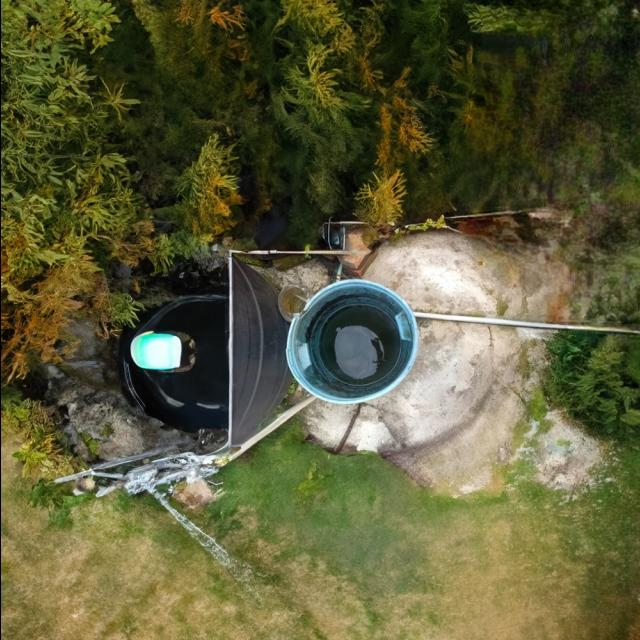Breeding Place: (54, 189, 307, 487), (240, 237, 454, 432)
